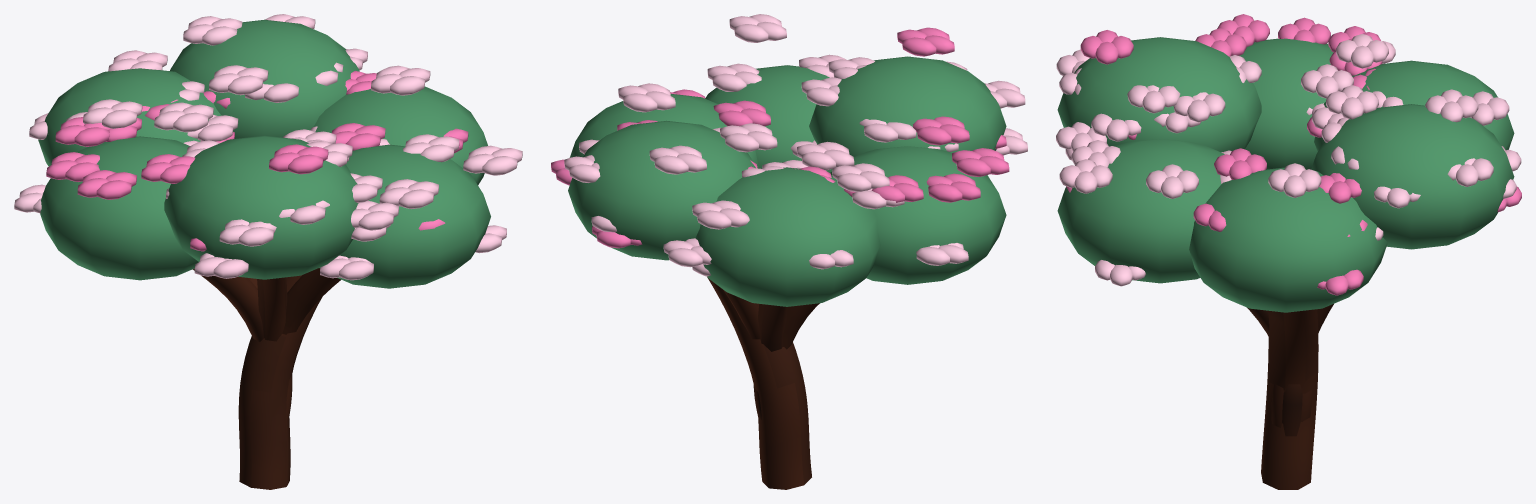
File: cherry-tree.glb
3 renders of one model, left to right at view 1: azimuth 30°, elevation 25°; view 2: azimuth 150°, elevation 25°; view 3: azimuth 270°, elevation 25°, orthographic. The views are drawn at different scales.
Parts seen in each view (by area): view 1: Leaf crown, Cherry blossom.004, Branch, Cherry blossom; view 2: Leaf crown, Cherry blossom.004, Branch, Cherry blossom; view 3: Leaf crown, Cherry blossom.004, Branch, Cherry blossom.
Boxes of the visible parts, x1,y1,x2,y2 form: Leaf crown: (38,19,490,288); Cherry blossom.004: (14,14,522,280); Branch: (193,268,340,489); Cherry blossom: (46,71,468,251); Leaf crown: (568,56,1006,306); Cherry blossom.004: (564,14,1027,276); Branch: (707,277,819,489); Cherry blossom: (551,27,1009,248); Leaf crown: (1057,37,1514,312); Cherry blossom.004: (1056,34,1521,286); Branch: (1247,304,1333,489); Cherry blossom: (1066,14,1521,295).
Size of the model in its own units: 5.45 by 4.88 by 4.98.
Materials: 4 (1 with a texture image).
